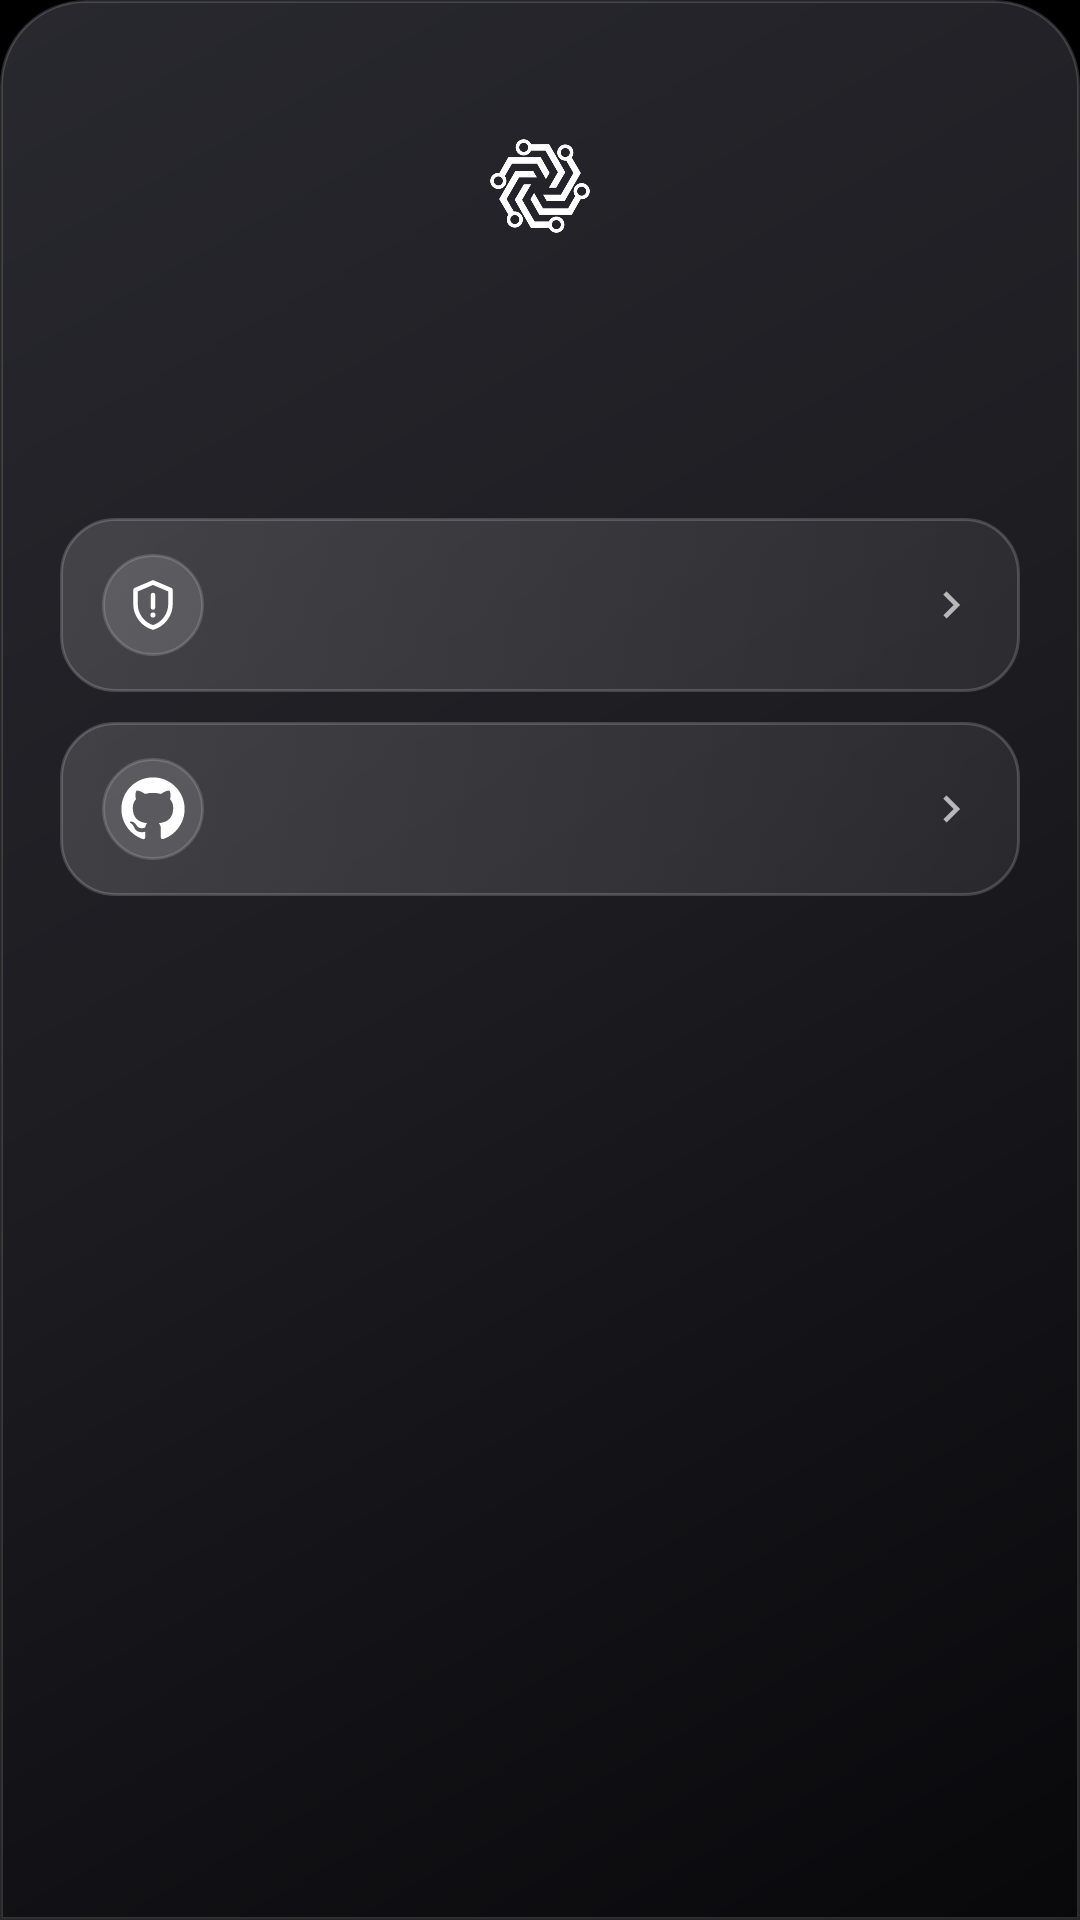

Icons on this 1080 x 1920 Android screen, each with its box as (x1, y1, x2, y2):
chevron right: (943, 591, 960, 619), (943, 795, 960, 823)
security shield: (133, 580, 173, 630)
